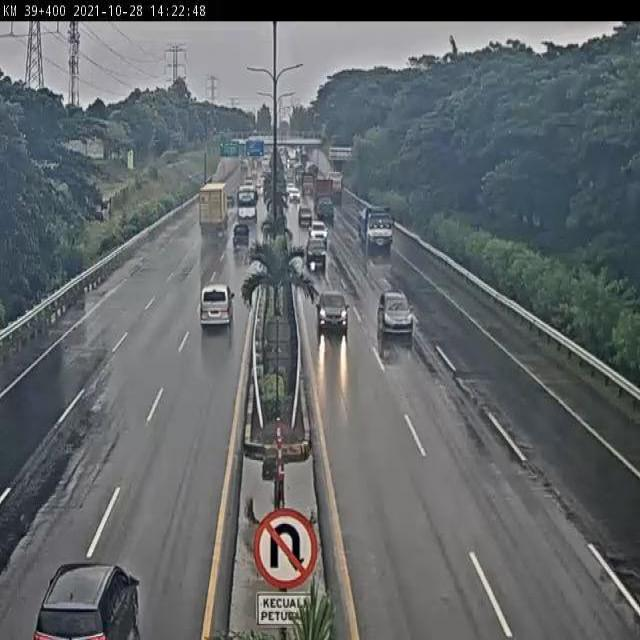car: (377, 290, 415, 338), (200, 280, 235, 331), (315, 291, 350, 337), (305, 238, 328, 266), (308, 220, 329, 247), (232, 222, 251, 246)
truck-l-: (357, 204, 396, 256)
truck-xl-: (198, 183, 231, 244)
